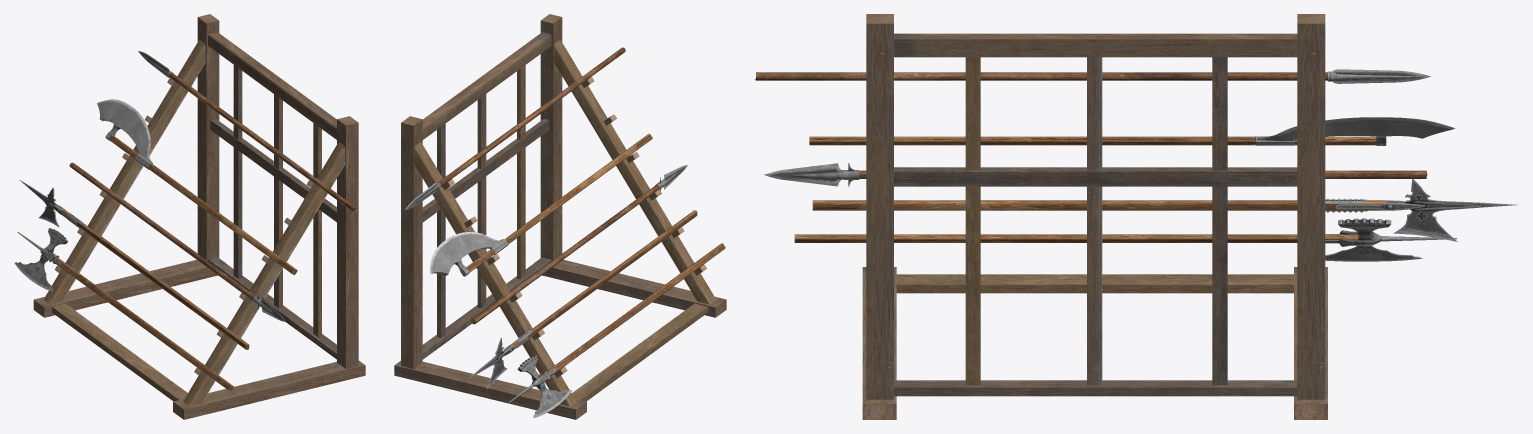
The model's file is Weapon_Pack_04.fbx.
3 views of the same model, side by side, from view 1: azimuth 30°, elevation 25°; view 2: azimuth 150°, elevation 25°; view 3: azimuth 270°, elevation 25° (orthographic). The views are drawn at different scales.
Visible parts, largest first — view 1: Weapon_Pack_04_LOD0; view 2: Weapon_Pack_04_LOD0; view 3: Weapon_Pack_04_LOD0.
Boxes of the visible parts, <box> form: Weapon_Pack_04_LOD0: <box>14,14,365,419</box>; Weapon_Pack_04_LOD0: <box>394,14,726,419</box>; Weapon_Pack_04_LOD0: <box>755,14,1517,419</box>.
Size of what is drawn, in the model's own units: 97.53 by 130 by 230.
